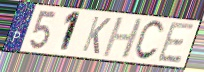1: (59, 11, 82, 55)
5: (28, 9, 59, 51)
C: (132, 19, 165, 62)
E: (155, 20, 196, 65)
H: (100, 17, 145, 59)
K: (80, 15, 113, 56)
